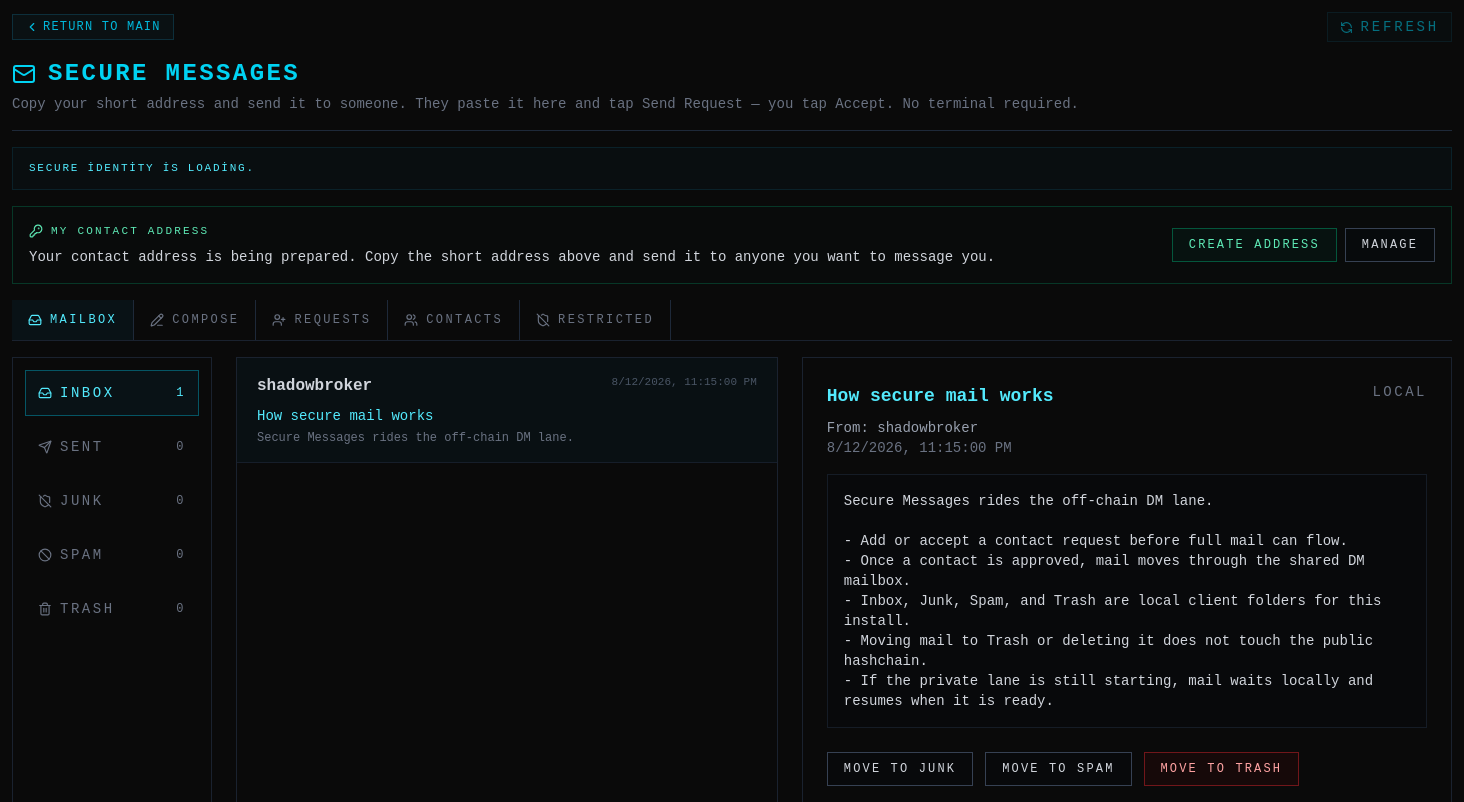
Test: MessagesView first-contact trust UX › hydrates Wormhole contacts on first load even when a local browser identity exists
The width and height of the screenshot is (1464, 802).
Click the button "CONTACTS" at (454, 320), box [388,300,520,340]
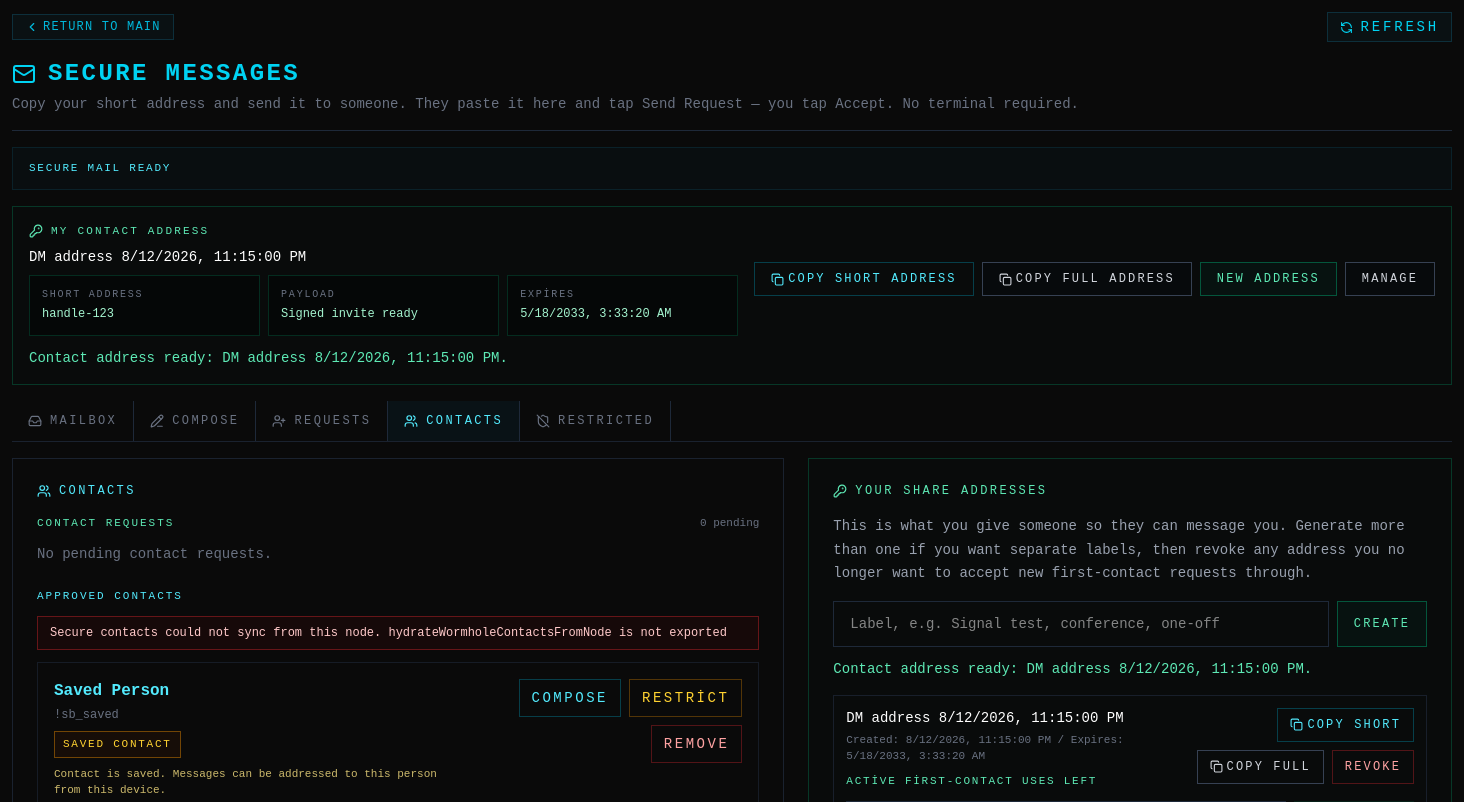
Now the text "Saved Person" is shown, box [54,682,169,700]
